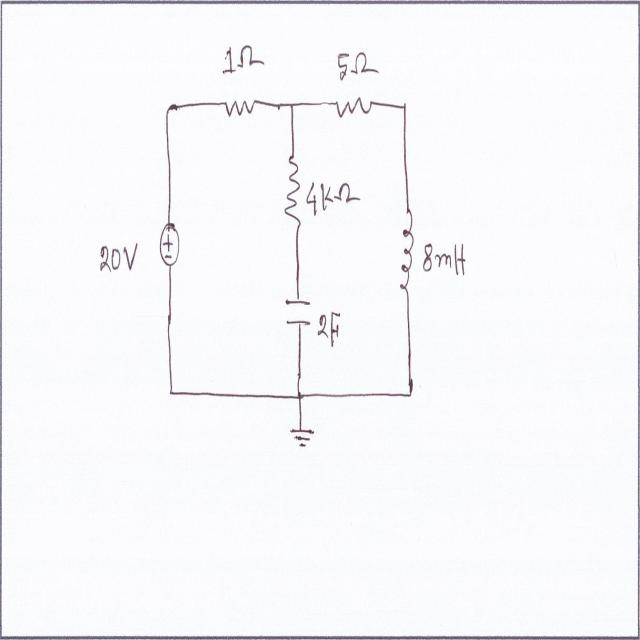capacitor: (282, 293, 315, 333)
ground: (284, 420, 316, 450)
inductor: (398, 207, 418, 295)
resistor: (282, 146, 303, 236), (222, 92, 260, 130), (335, 96, 373, 124)
voltage_source: (160, 220, 182, 272)
